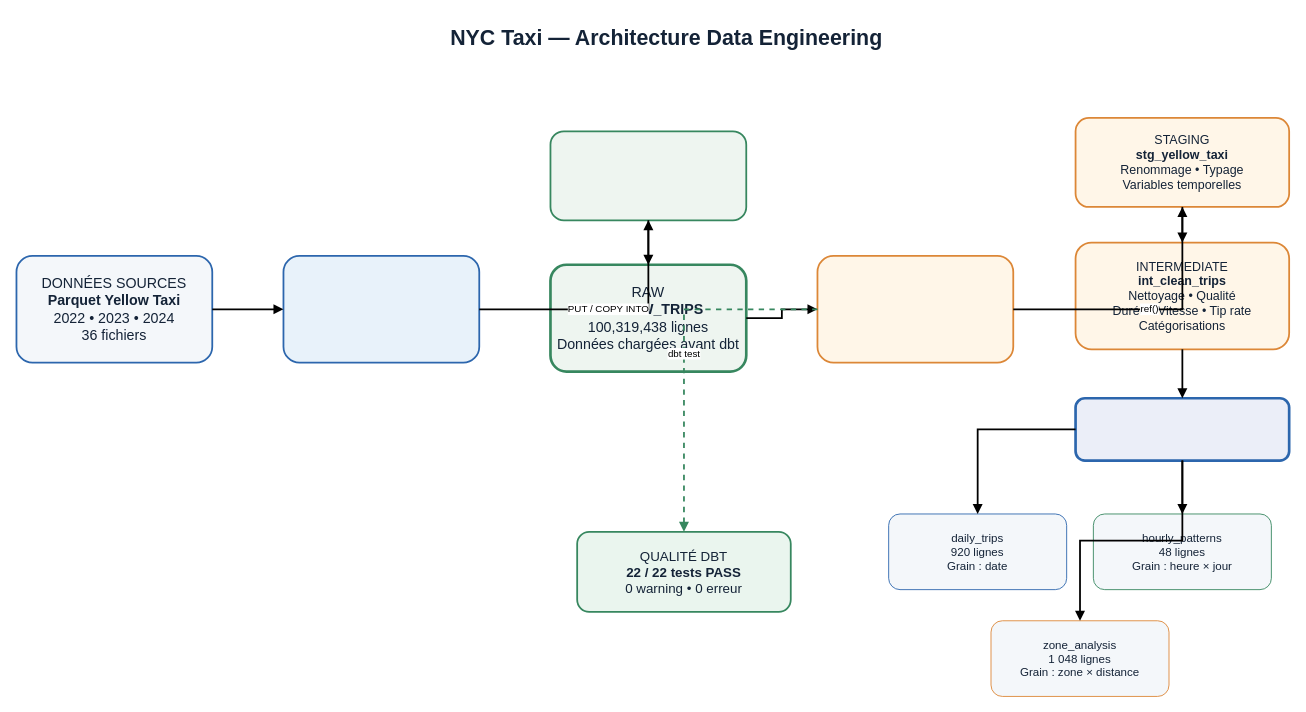
Image size: 1306x712. Some labels were removed from this diagram. The box of each missing label's shape, as (x1, y1, x2, y2) in pixels:
DBT CORE Transformation + Tests SQL • Macros • Documentation: (816, 255, 1014, 363)
FINAL — MARTS ANALYTIQUES: (1074, 396, 1290, 461)
INGESTION Python PUT → COPY INTO Contrôles de chargement: (282, 255, 480, 363)
SNOWFLAKE Internal Stage YELLOW_TAXI_STAGE: (549, 130, 747, 221)
